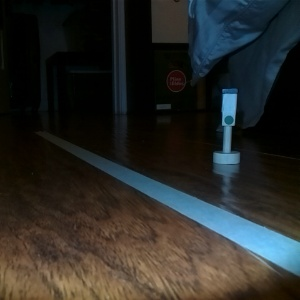traffic light green: (210, 87, 243, 167)
